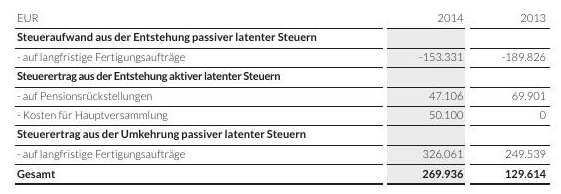table: (0, 0, 561, 194)
